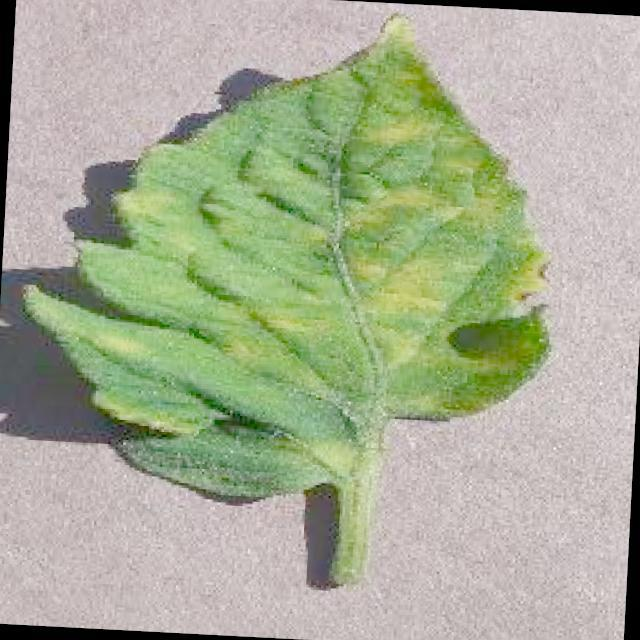Tomato mold leaf: (11, 0, 568, 519)
